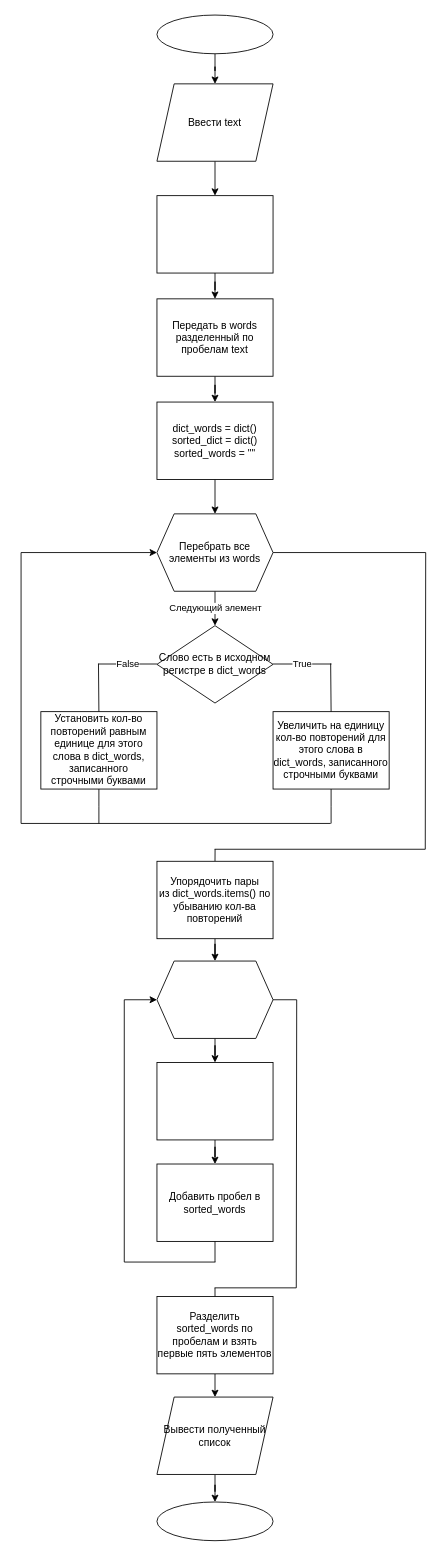
Image size: 442x1556. Some labels were removed from this diagram. Each missing label, with the centre of its shape:
i = 0; i < len(sorted_dict); i++;: pixel 214 999
Добавить sorted_dict[i][0] в sorted_words: pixel 214 1101
Заменить все запятые и точки пробелами в text: pixel 214 234
Конец: pixel 214 1521
Начало: pixel 214 34
